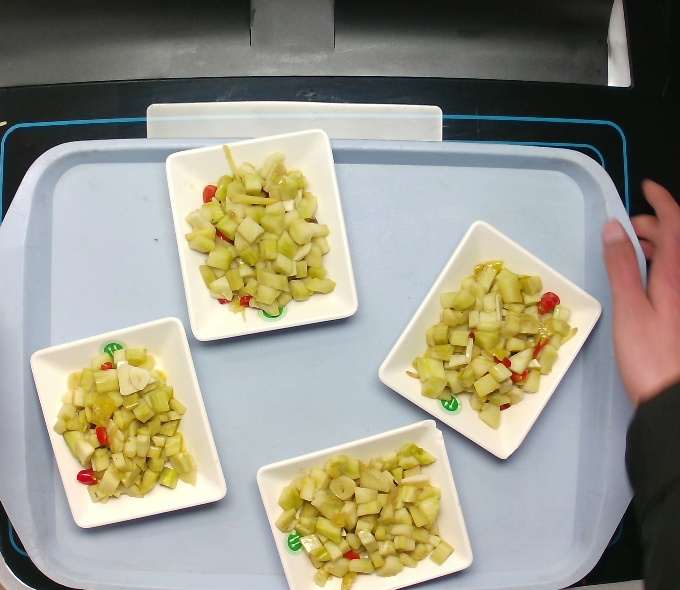wcq-YanHuaCaiGeng: (404, 259, 579, 431), (178, 140, 342, 320), (269, 444, 462, 590), (42, 342, 208, 510)
